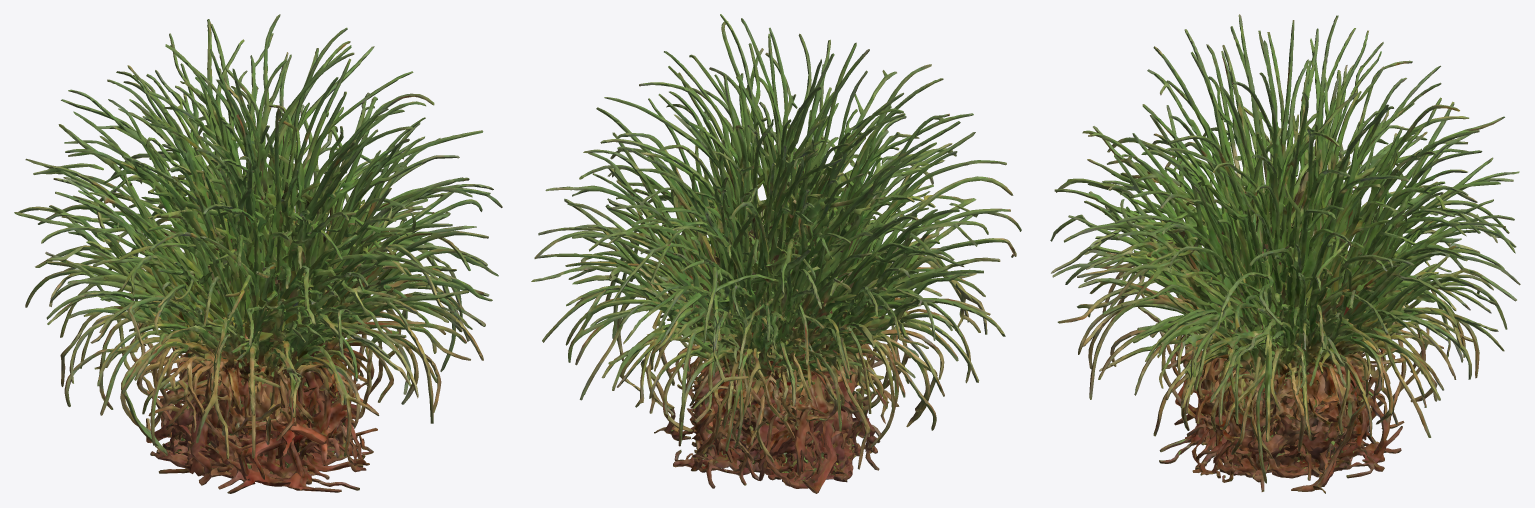
Rendered from sedge-tuft-v12.glb.
3 renders of one model, left to right at view 1: azimuth 30°, elevation 25°; view 2: azimuth 150°, elevation 25°; view 3: azimuth 270°, elevation 25°, orthographic.
Visible parts, largest first — view 1: geometry_0; view 2: geometry_0; view 3: geometry_0.
Part boxes in pixels (bbox=[...]): geometry_0: bbox=[14, 14, 502, 493]; geometry_0: bbox=[531, 14, 1021, 493]; geometry_0: bbox=[1050, 14, 1520, 493].
Size of the model in its own units: 0.722 by 0.7 by 0.7276.
1 material, 1 textured.
